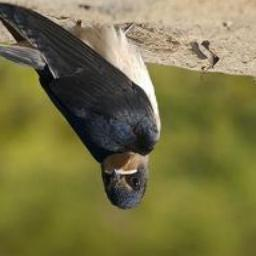Swallow: (0, 4, 161, 211)
